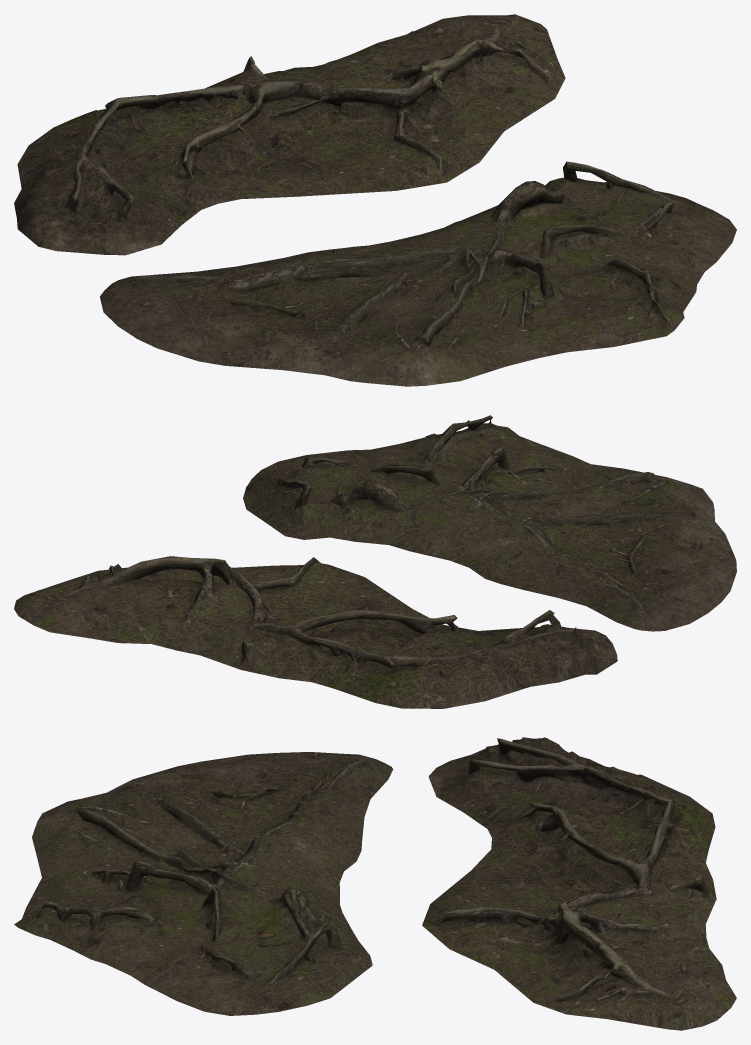
File: pine_roots.glb
3 views of the same model, one above another, from view 1: azimuth 30°, elevation 25°; view 2: azimuth 150°, elevation 25°; view 3: azimuth 270°, elevation 25° (orthographic). The views are drawn at different scales.
Parts seen in each view (by area): view 1: pine_roots_b, pine_roots_a; view 2: pine_roots_b, pine_roots_a; view 3: pine_roots_b, pine_roots_a.
Part boxes in pixels (x1,y1,x2,y2): pine_roots_b: (100, 161, 736, 386); pine_roots_a: (14, 14, 565, 255); pine_roots_b: (243, 415, 736, 631); pine_roots_a: (14, 556, 617, 708); pine_roots_b: (14, 752, 393, 1015); pine_roots_a: (422, 737, 736, 1030).
Bounding box in the file's own units: 1.77 × 0.1537 × 1.89.
Materials: 2 (2 with a texture image).
